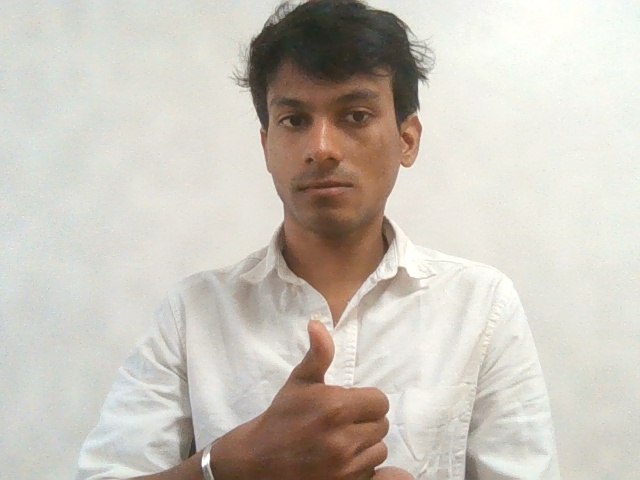Help: (243, 312, 422, 480)
